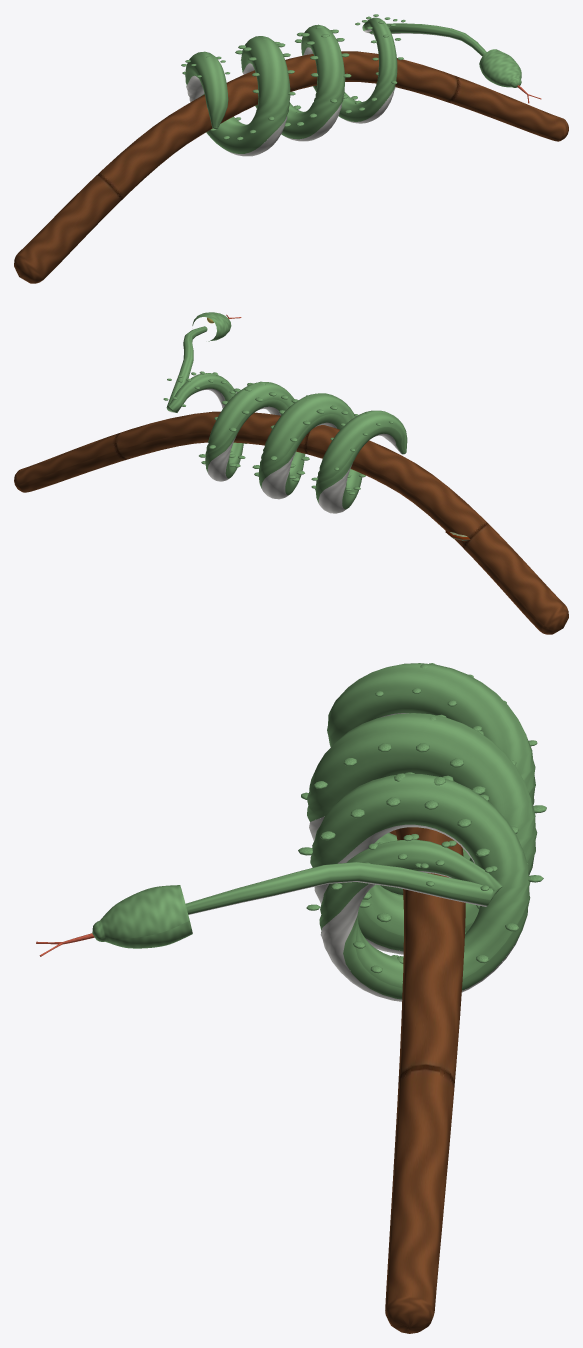
File: birds-and-reptiles-hd-green-tree-python-coiled-32faca1a__28103.glb
3 views of the same model, one above another, from view 1: azimuth 30°, elevation 25°; view 2: azimuth 150°, elevation 25°; view 3: azimuth 270°, elevation 25° (orthographic). The views are drawn at different scales.
Visible parts, largest first — view 1: green-tree-python-coiled; view 2: green-tree-python-coiled; view 3: green-tree-python-coiled.
Boxes of the visible parts, x1=… form: green-tree-python-coiled: x1=14, y1=14, x2=568, y2=283; green-tree-python-coiled: x1=14, y1=312, x2=568, y2=634; green-tree-python-coiled: x1=36, y1=663, x2=546, y2=1333.
Bounding box in the file's own units: 2.05 × 0.6431 × 0.8234.
7 materials, 5 textured.
